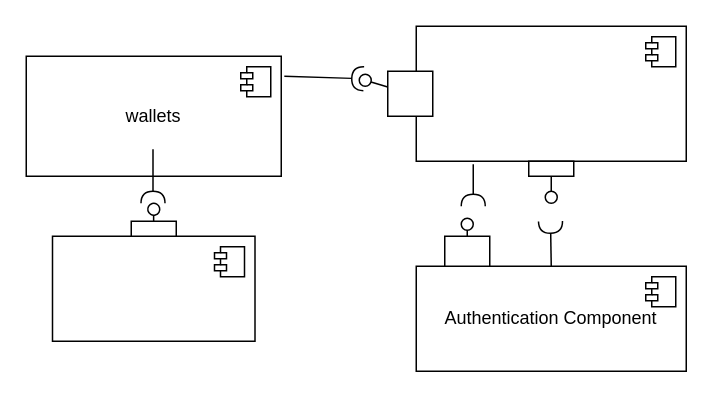
Image size: 713x398. Some labels were removed from this diagram. The box of each missing label's shape, as (x1, y1, x2, y2) in pixels:
Transactions: (51, 235, 255, 341)
users component: (415, 25, 686, 161)
